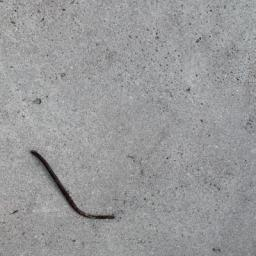FOD: (30, 150, 118, 223)
